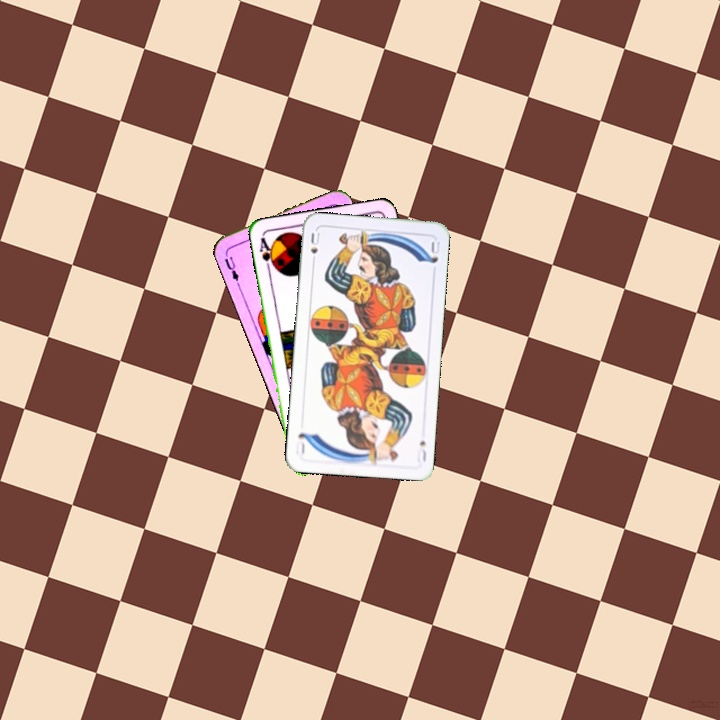EU: (220, 252, 241, 284)
SA: (255, 233, 278, 274)
SU: (307, 228, 322, 268), (413, 436, 429, 464)
